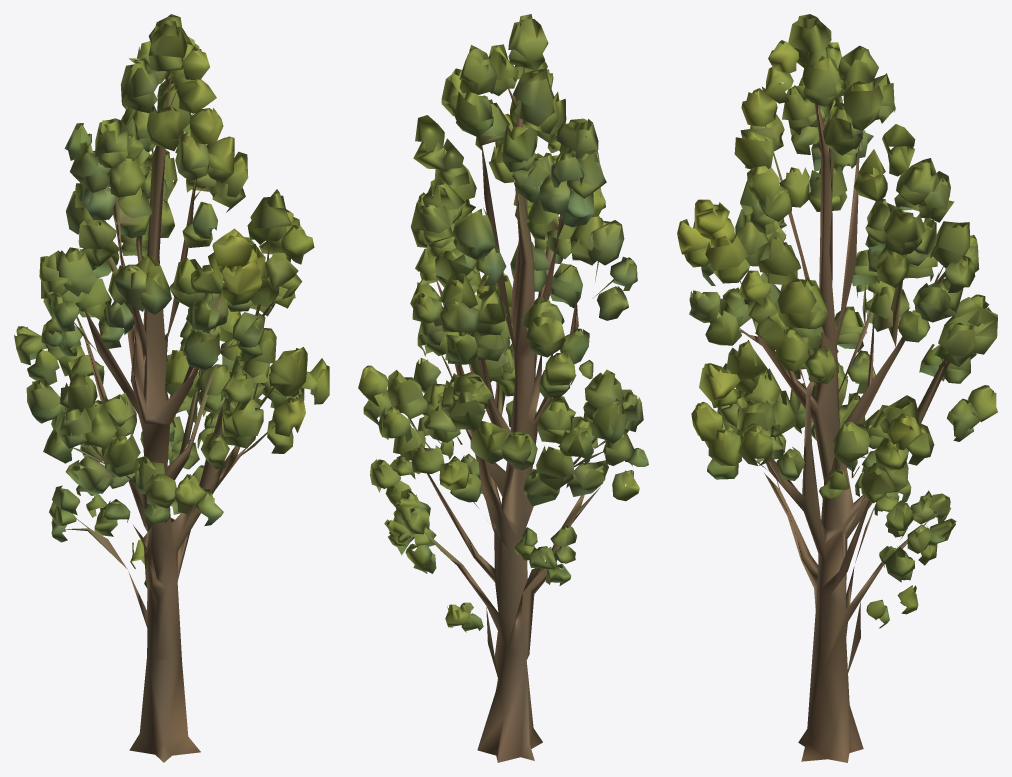
Rendered from tree-11-mid.glb.
The picture shows the model from 3 angles, left to right: view 1: azimuth 30°, elevation 25°; view 2: azimuth 150°, elevation 25°; view 3: azimuth 270°, elevation 25°; orthographic projection.
Size of the model in its own units: 0.3628 by 0.9995 by 0.397.
